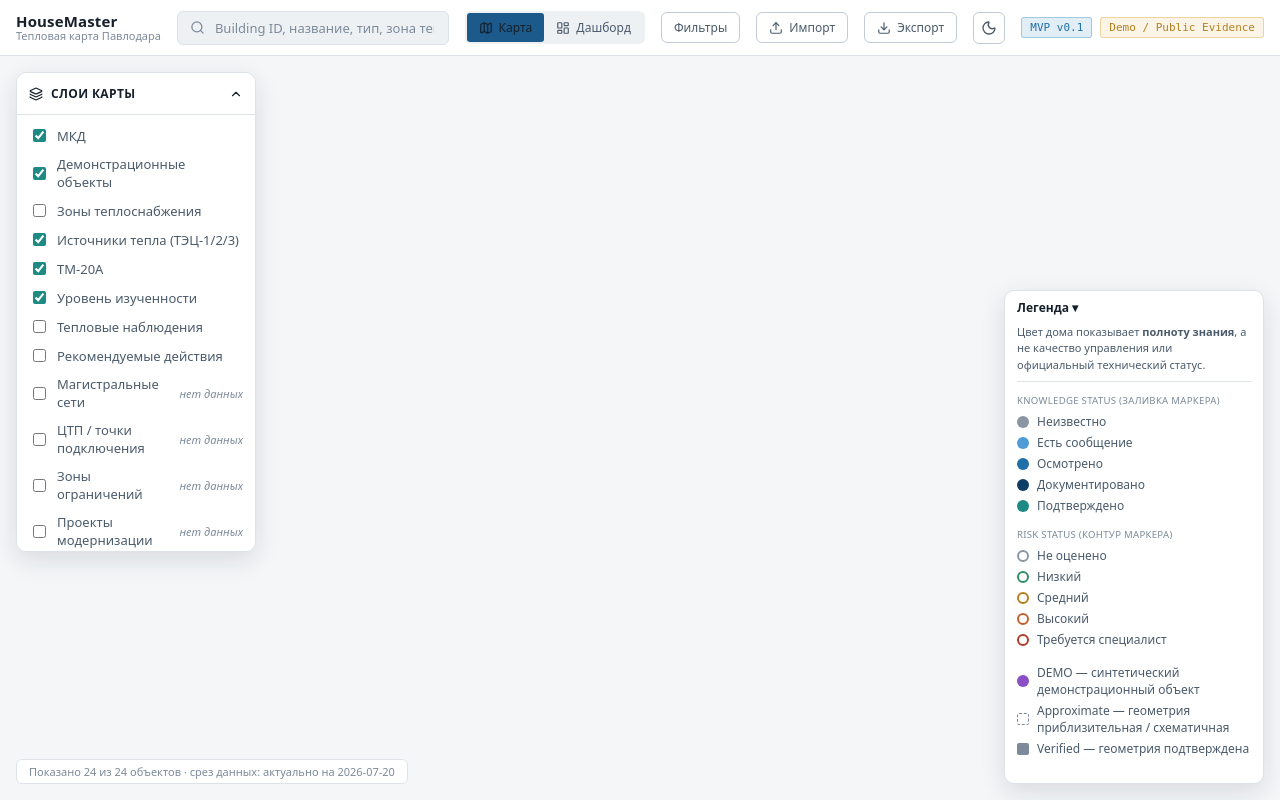
Test: App smoke test › switches to dashboard view and shows computed metrics
Click the tab "Дашборд" at (594, 28), box [544,13,643,42]
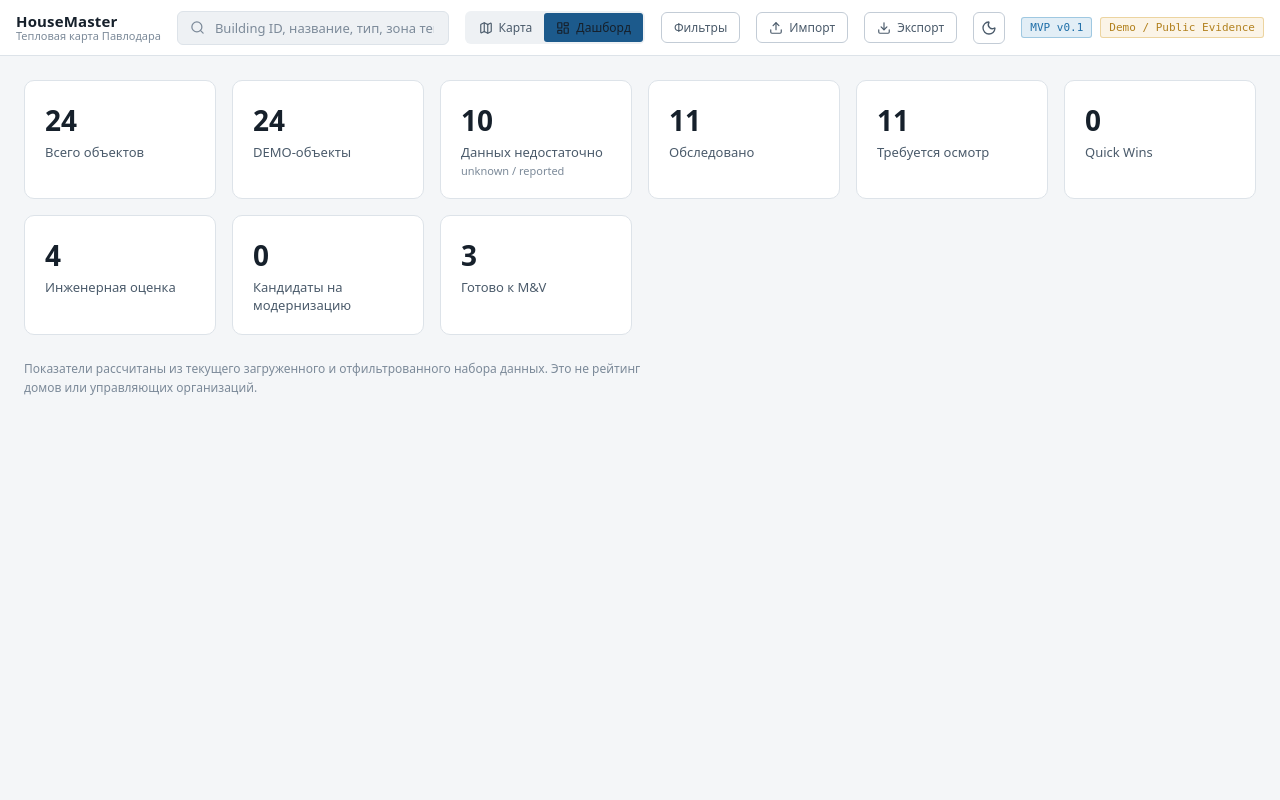
Expected: the text "Всего объектов" is shown, [45,143,144,161]
Expected: the text "DEMO-объекты" is shown, [253,143,351,161]
